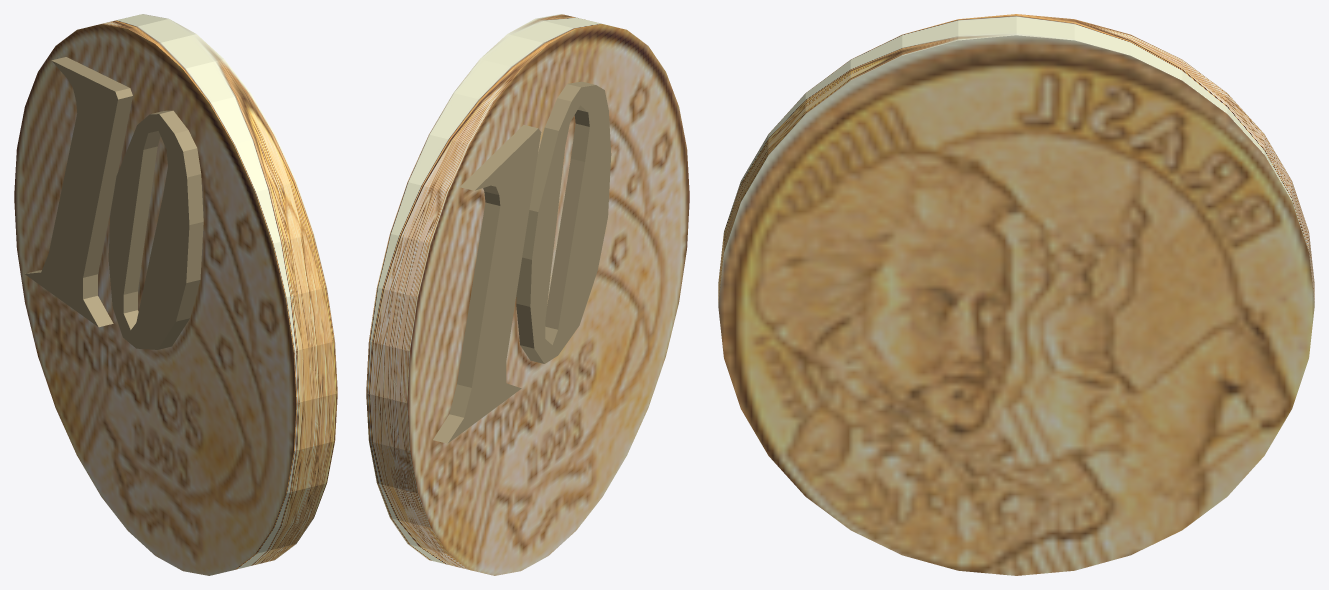
Rendered from coin-010.glb.
3 renders of one model, left to right at view 1: azimuth 30°, elevation 25°; view 2: azimuth 150°, elevation 25°; view 3: azimuth 270°, elevation 25°, orthographic. The views are drawn at different scales.
Parts seen in each view (by area): view 1: Circle.003; view 2: Circle.003; view 3: Circle.003.
Part boxes in pixels (x1=…): Circle.003: x1=14, y1=14, x2=337, y2=575; Circle.003: x1=366, y1=14, x2=689, y2=575; Circle.003: x1=718, y1=14, x2=1314, y2=575.
Size of the model in its own units: 0.23 by 2 by 2.
Materials: 2 (1 with a texture image).
